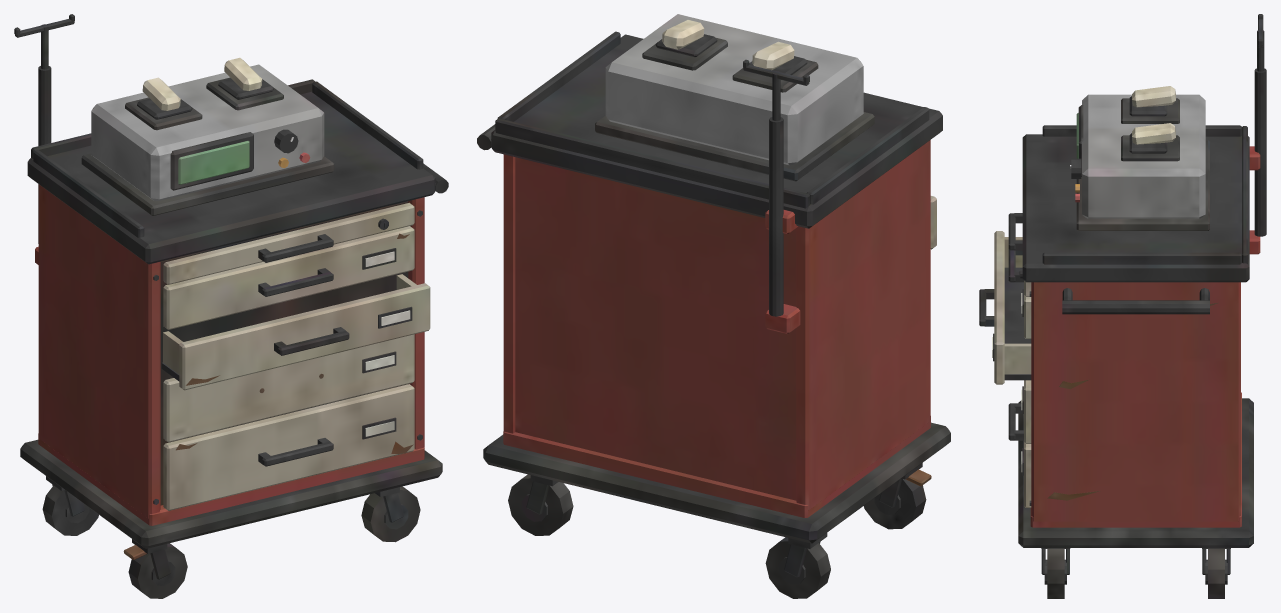
Rendered from HE13_crash_cart.glb.
3 renders of one model, left to right at view 1: azimuth 30°, elevation 25°; view 2: azimuth 150°, elevation 25°; view 3: azimuth 270°, elevation 25°, orthographic. The views are drawn at different scales.
Parts seen in each view (by area): view 1: Caster tread; view 2: Caster tread; view 3: Caster tread.
Part boxes in pixels (x1=…): Caster tread: x1=14, y1=14, x2=448, y2=598; Caster tread: x1=477, y1=14, x2=950, y2=598; Caster tread: x1=979, y1=14, x2=1266, y2=598.
Bounding box in the file's own units: 0.6942 × 1 × 0.5643.
Materials: 14 (14 with a texture image).
